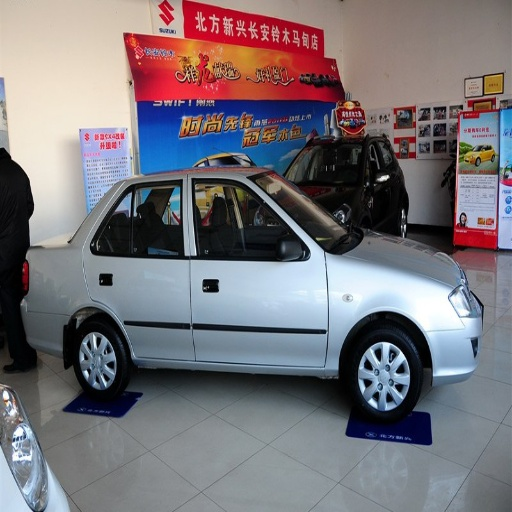back_right_door: (85, 175, 194, 358)
front_bumper: (430, 321, 473, 372)
front_right_door: (192, 174, 324, 364)
